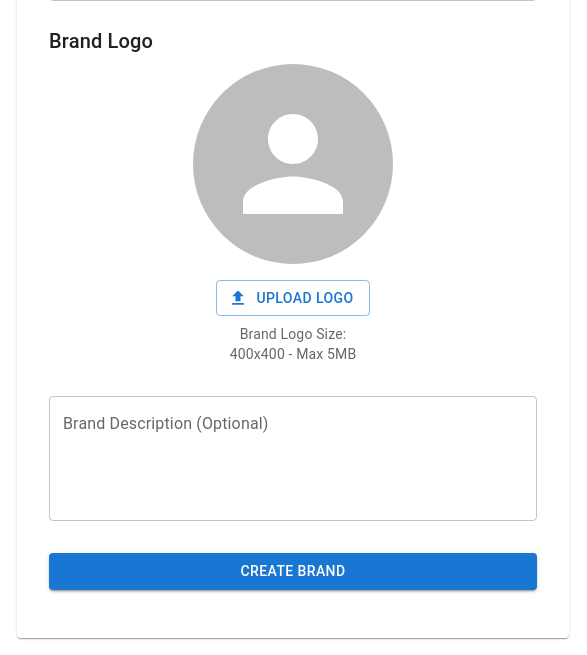
BrandCreateForm › Create Mode › shows validation errors for invalid input
This screenshot has width=587, height=655.
(page scrolled)
Click the button "Create Brand": (293, 572) [49, 553, 537, 590]
(page scrolled)
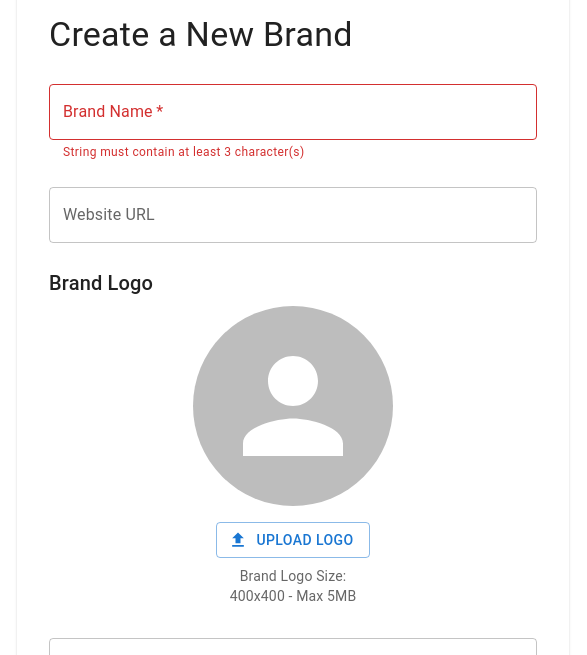
Check: the text "String must contain at least 3 character(s)" is shown, box [63, 145, 304, 159]
